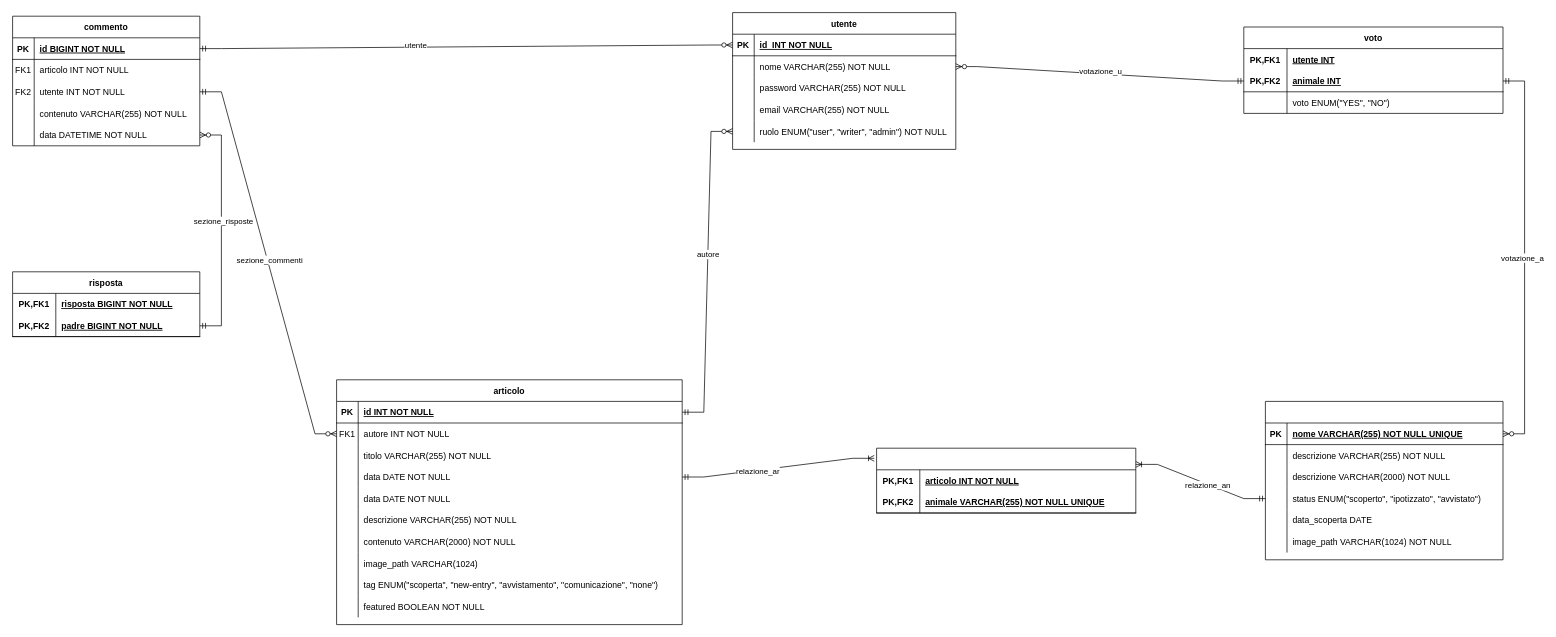
The diagram is 1556 pixels wide and 637 high, and some of its shapes have lost their labels. The box of each missing label's shape, as (x1, y1, x2, y2) in pixels:
animale: (1265, 401, 1503, 560)
articolo_animale: (876, 447, 1136, 513)
